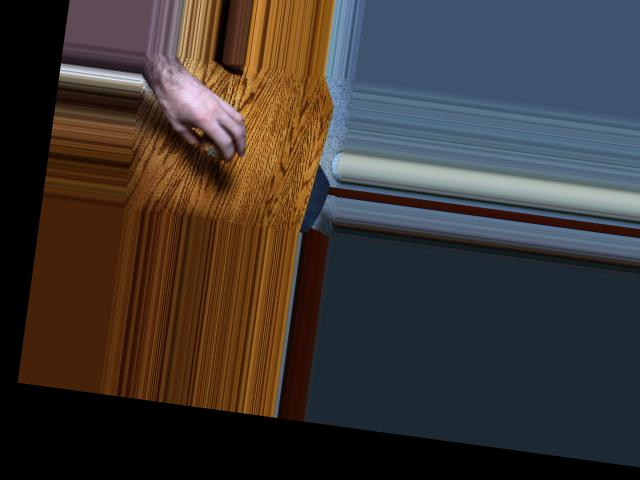onion: (197, 127, 240, 161)
